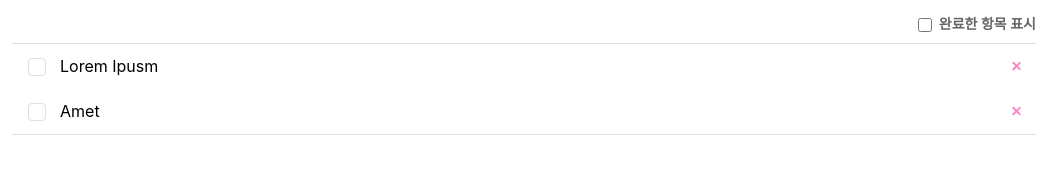
Test: List › 완료된 항목 보기 체크가 켜진 경우 완료된 항목도 출력해야 한다.
Click the checkbox with test id "list-show-complete".
click(925, 24)  # box left=918, top=18, right=932, bottom=32
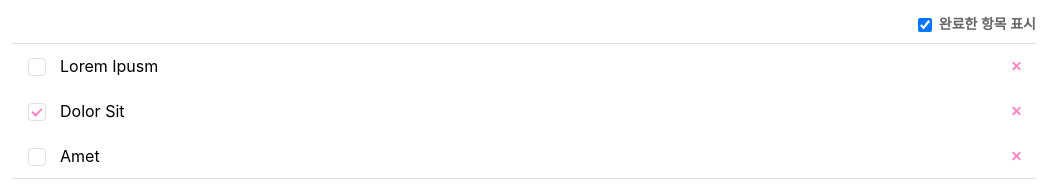
Now the list with test id "list" shows "Dolor Sit", box left=60, top=101, right=124, bottom=121
